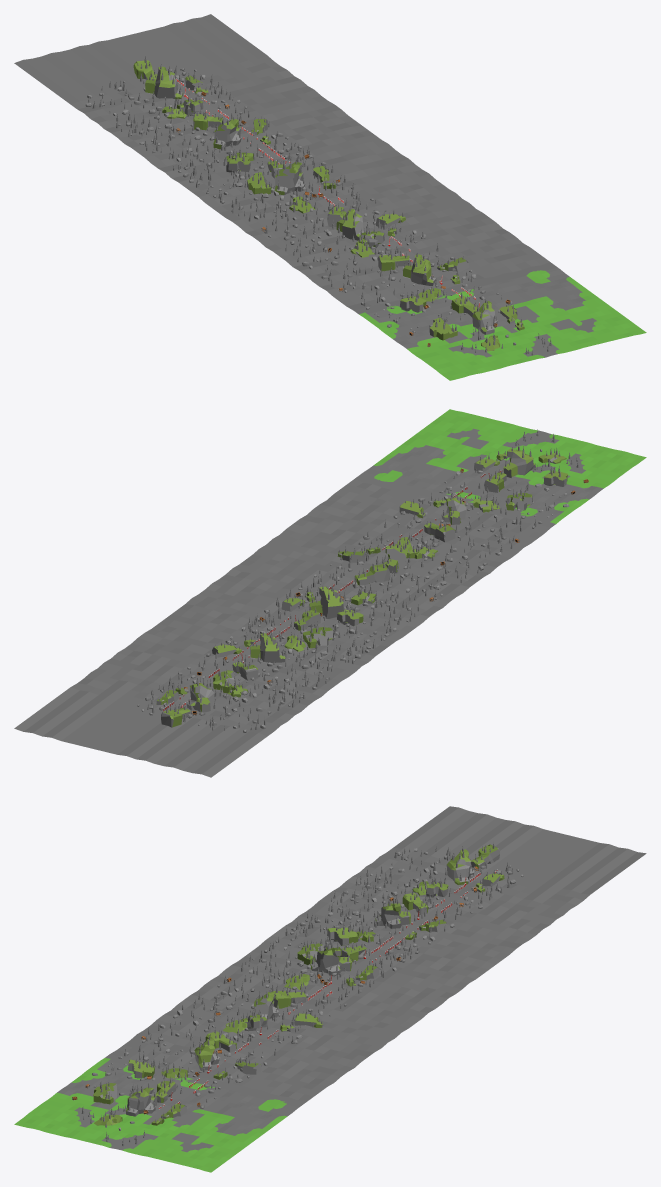
The model's file is Decor lvl5.fbx.
3 views of the same model, one above another, from view 1: azimuth 30°, elevation 25°; view 2: azimuth 150°, elevation 25°; view 3: azimuth 330°, elevation 25° (orthographic).
Parts seen in each view (by area): view 1: Ground, Mountain.002, Stalagnite, Rocks; view 2: Ground, Mountain.002, Stalagnite, Rocks; view 3: Ground, Mountain.002, Stalagnite, Rocks, Stops.
Boxes of the visible parts, x1,y1,x2,y2 form: Ground: (14, 14, 646, 380); Mountain.002: (133, 56, 524, 351); Stalagnite: (88, 65, 551, 355); Rocks: (85, 68, 516, 345); Ground: (14, 409, 646, 777); Mountain.002: (156, 444, 567, 727); Stalagnite: (147, 429, 579, 730); Rocks: (137, 449, 569, 732); Ground: (14, 806, 646, 1172); Mountain.002: (93, 842, 504, 1127); Stalagnite: (81, 846, 513, 1146); Rocks: (92, 848, 523, 1130); Stops: (158, 869, 497, 1109).
Size of the model in its own units: 20036 by 3738 by 76619.
